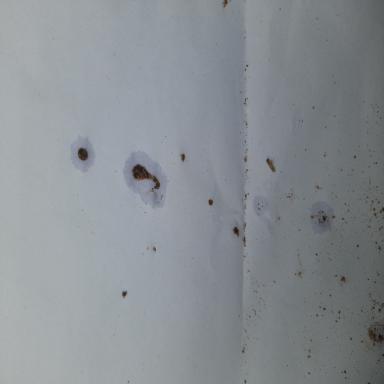pbw: (266, 156, 276, 173)
